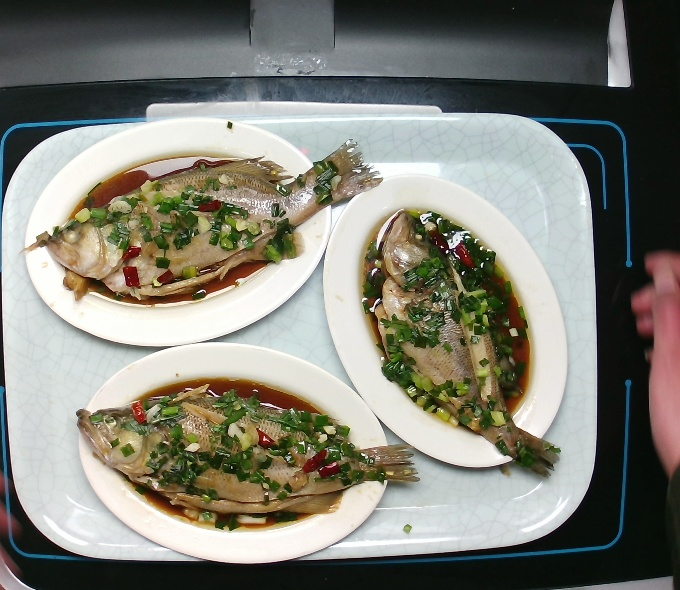wcq-LuYu: (16, 138, 381, 307), (358, 201, 563, 481), (77, 374, 424, 533)
